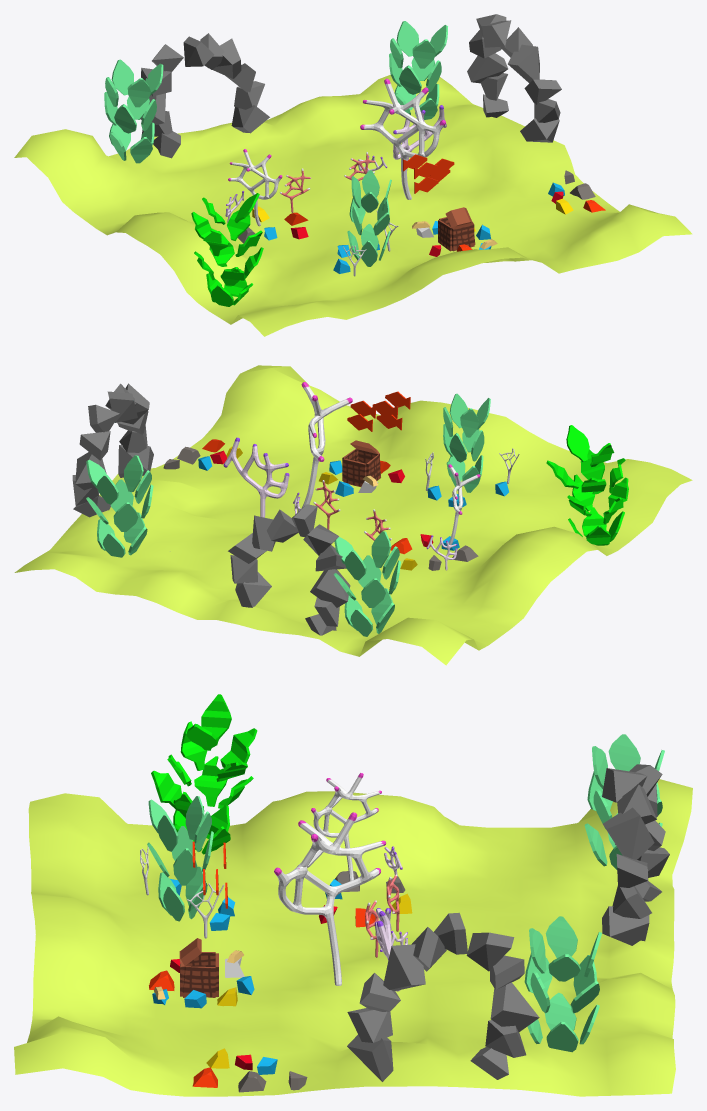
3 views of the same model, one above another, from view 1: azimuth 30°, elevation 25°; view 2: azimuth 150°, elevation 25°; view 3: azimuth 270°, elevation 25° (orthographic). The views are drawn at different scales.
Parts seen in each view (by area): view 1: Plane, Cube.004, Cube.013, SeaWeed2, SeaWeed4, SeaWeed1, SeaWeed3, CoralA.1, Chest, Fish, CoralA, CoralC.2; view 2: Plane, Cube.013, Cube.004, SeaWeed4, SeaWeed2, SeaWeed1, SeaWeed3, CoralC.2, Fish, CoralA.1, Chest, CoralA; view 3: Plane, Cube.004, Cube.013, SeaWeed4, SeaWeed1, SeaWeed3, CoralA.1, SeaWeed2, Chest, CoralA, CoralC.2.
Part boxes in pixels (box(x1,y1,x2,y2)): Plane: box(14, 75, 692, 336); Cube.004: box(467, 14, 561, 142); Cube.013: box(140, 33, 269, 158); SeaWeed2: box(104, 59, 163, 163); SeaWeed4: box(191, 193, 263, 306); SeaWeed1: box(389, 21, 447, 119); SeaWeed3: box(347, 170, 391, 266); CoralA.1: box(360, 78, 445, 199); Chest: box(438, 207, 475, 251); Fish: box(403, 154, 454, 193); CoralA: box(228, 149, 282, 226); CoralC.2: box(393, 105, 446, 170); Plane: box(14, 365, 692, 665); Cube.013: box(228, 504, 350, 635); Cube.004: box(72, 383, 153, 517); SeaWeed4: box(546, 425, 628, 545); SeaWeed2: box(333, 531, 400, 636); SeaWeed1: box(86, 455, 153, 557); SeaWeed3: box(443, 393, 490, 492); CoralC.2: box(223, 437, 289, 517); Fish: box(347, 391, 410, 431); CoralA.1: box(301, 382, 352, 508); Chest: box(342, 440, 380, 486); CoralA: box(448, 464, 480, 545); Plane: box(14, 779, 692, 1096); Cube.004: box(347, 912, 539, 1081); Cube.013: box(602, 764, 669, 945); SeaWeed4: box(151, 694, 257, 854); SeaWeed1: box(524, 916, 601, 1052); SeaWeed3: box(147, 796, 213, 921); CoralA.1: box(274, 812, 386, 985); SeaWeed2: box(584, 734, 664, 869); Chest: box(179, 938, 218, 997); CoralA: box(311, 773, 381, 881); CoralC.2: box(374, 908, 400, 991).
Size of the model in its own units: 4136 by 1210 by 4151.
Materials: 16 (16 with a texture image).
